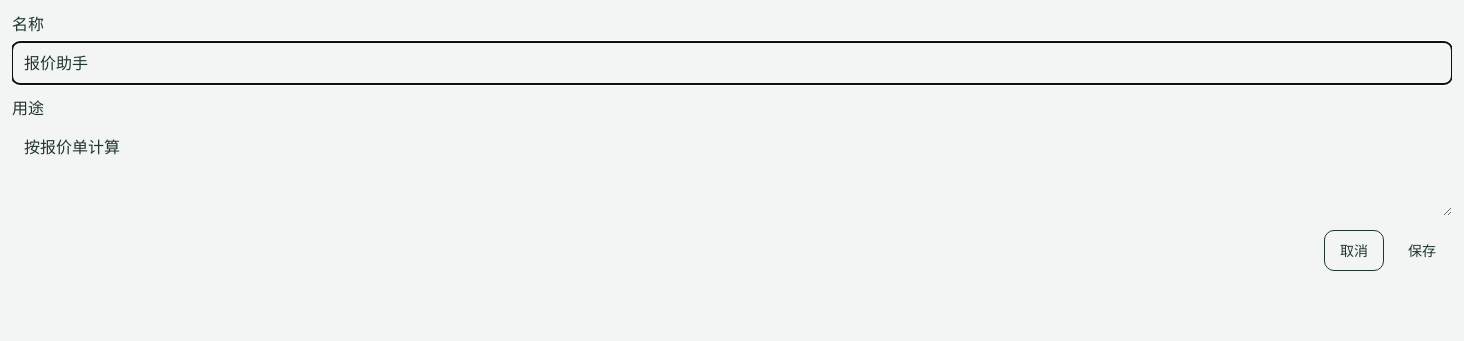
it: shows conflict message on 409
The image size is (1464, 341).
Replace the text in the field labelled "名称" with "新名字" at (732, 63), box top-left (12, 42), bottom-right (1452, 84)
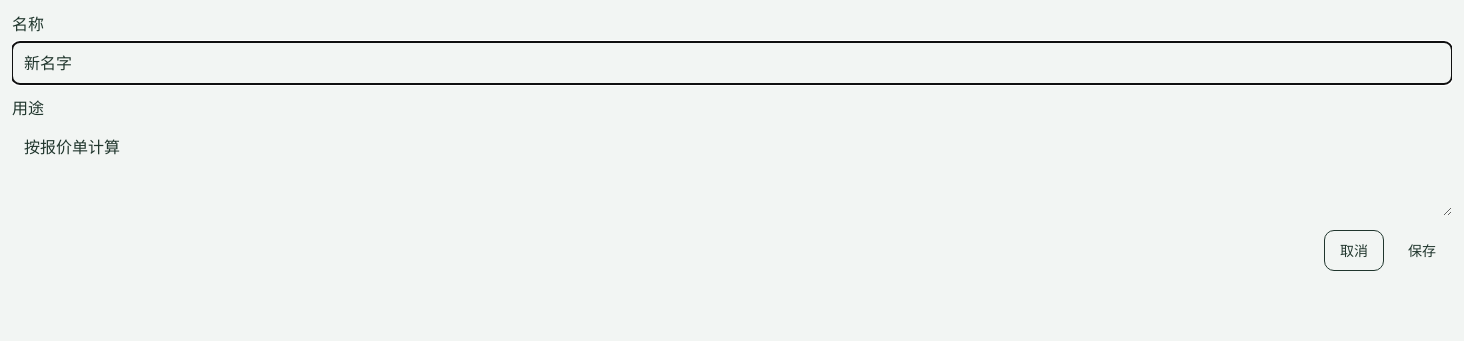
Click the button "保存" at (1422, 250), box top-left (1392, 230), bottom-right (1452, 271)
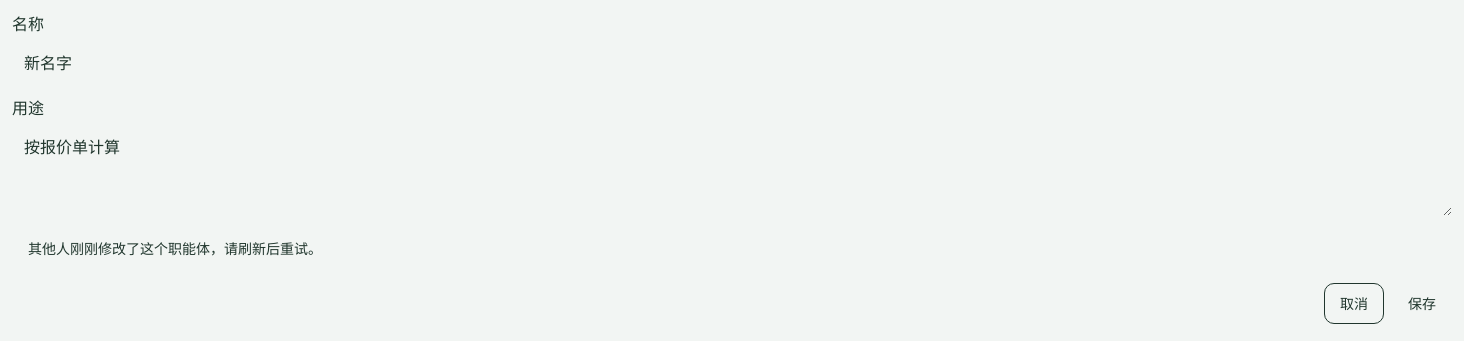
Expected: the text "其他人刚刚修改了这个职能体，请刷新后重试。" is shown, top-left (28, 240), bottom-right (322, 257)
